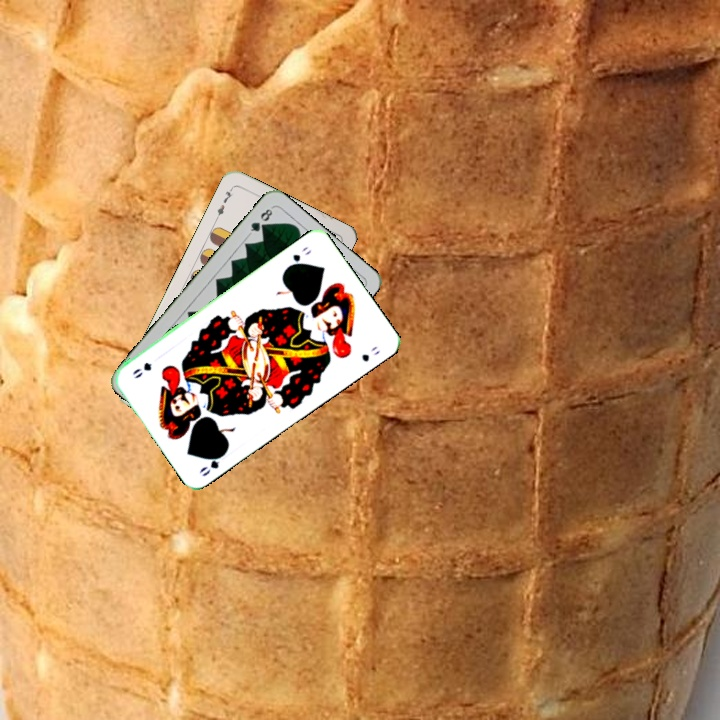E7: (212, 184, 235, 222)
G8: (245, 203, 277, 237)
GO: (195, 447, 229, 479), (282, 242, 314, 272)
